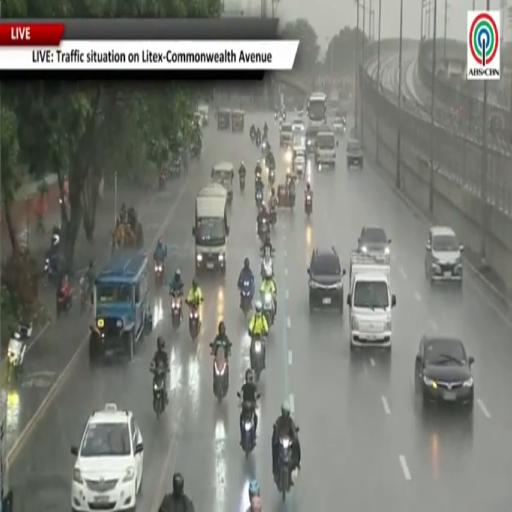bus: (307, 92, 327, 124)
car: (71, 404, 143, 511), (415, 336, 474, 409), (308, 248, 345, 313), (425, 227, 464, 282), (358, 227, 391, 258), (306, 124, 329, 154), (346, 139, 363, 169), (280, 123, 292, 147), (333, 116, 345, 135), (292, 119, 305, 133)
jeepney: (89, 251, 152, 361), (212, 163, 234, 202), (217, 108, 231, 130), (231, 109, 244, 132)
motorcycle: (276, 437, 292, 502), (8, 332, 28, 381), (213, 347, 229, 403), (240, 403, 256, 457), (250, 335, 265, 381), (153, 367, 166, 419), (80, 276, 91, 315), (43, 258, 58, 286), (240, 281, 252, 315), (262, 293, 274, 326), (171, 294, 182, 329), (189, 306, 200, 340), (57, 292, 72, 316), (261, 248, 273, 278), (168, 157, 182, 179), (258, 218, 269, 243), (155, 261, 164, 286), (305, 195, 312, 216), (255, 189, 263, 207), (268, 167, 275, 185), (288, 192, 295, 210), (270, 206, 276, 227), (159, 173, 166, 190), (261, 138, 267, 155), (255, 168, 261, 182), (255, 133, 261, 147), (250, 125, 255, 141), (240, 175, 245, 190), (298, 108, 303, 117), (274, 112, 279, 120)
truck: (347, 251, 396, 349), (193, 184, 229, 275)
